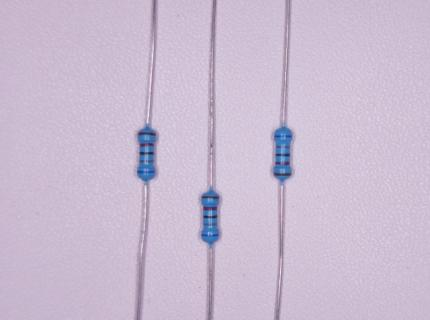Black band: (275, 153, 290, 157), (140, 152, 154, 155), (203, 215, 217, 218)
Blue band: (137, 171, 155, 174), (202, 234, 219, 236), (275, 135, 292, 137)
Brown band: (138, 132, 156, 136), (202, 196, 219, 199), (274, 173, 291, 176)
Grey band: (276, 145, 290, 148), (140, 160, 153, 163), (204, 223, 217, 226)
Red band: (140, 143, 154, 147), (203, 206, 217, 210), (276, 161, 290, 165)
